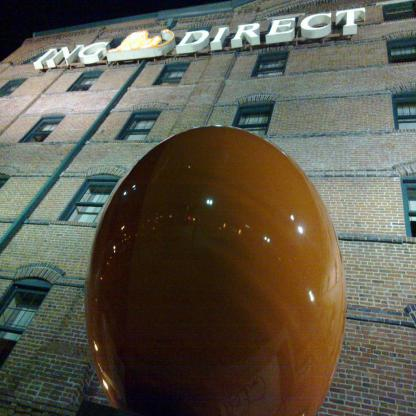Ball: (85, 126, 348, 416)
